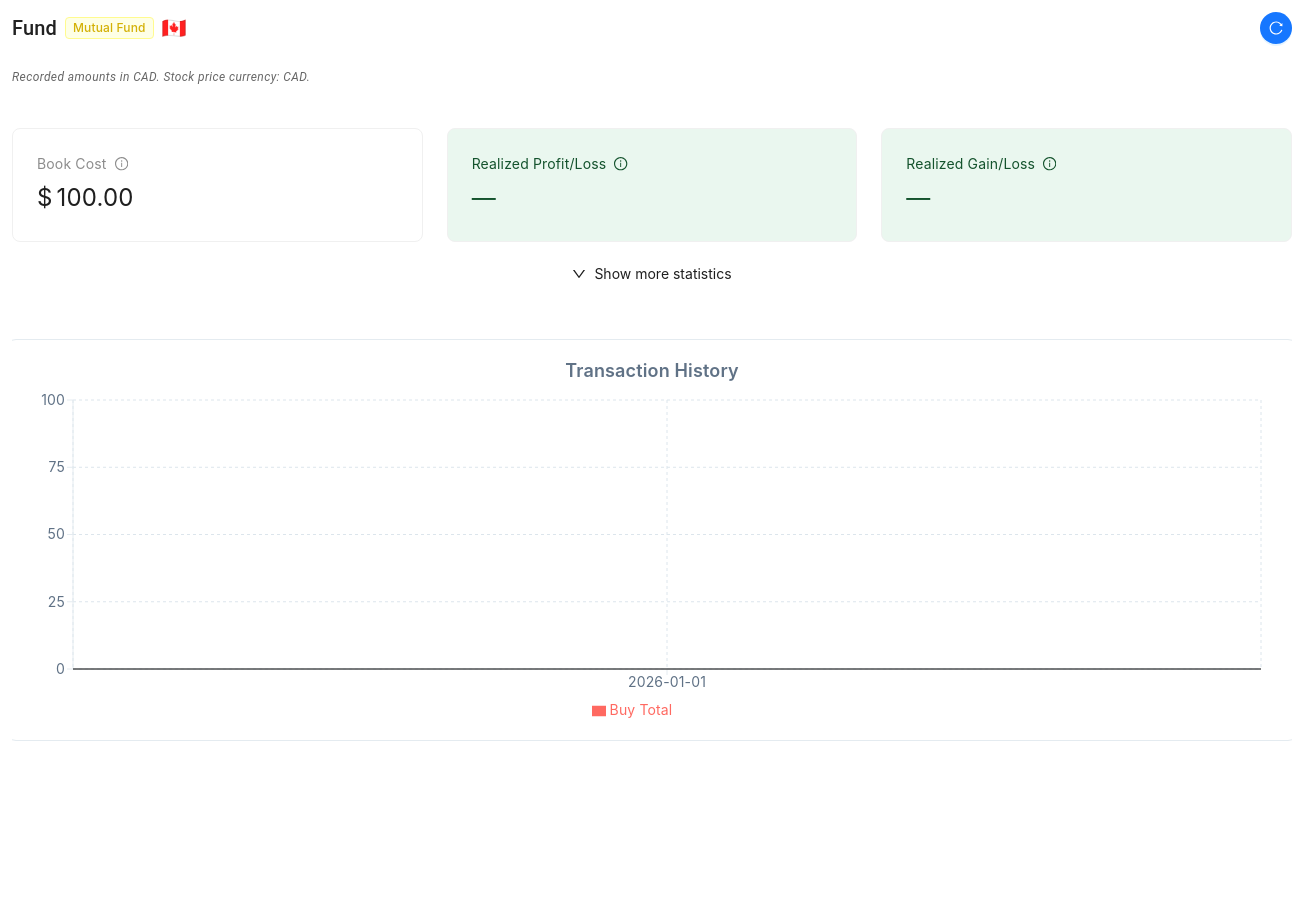
it: Mutual Fund omits irrelevant cards, dividend history and share labels
Expected: the text "Transaction History" is shown, [565, 359, 739, 380]
Expected: the element "Book Cost" shows "100.00", [12, 128, 423, 242]
Click the button "Show more statistics".
click(652, 274)  # box [556, 258, 748, 290]
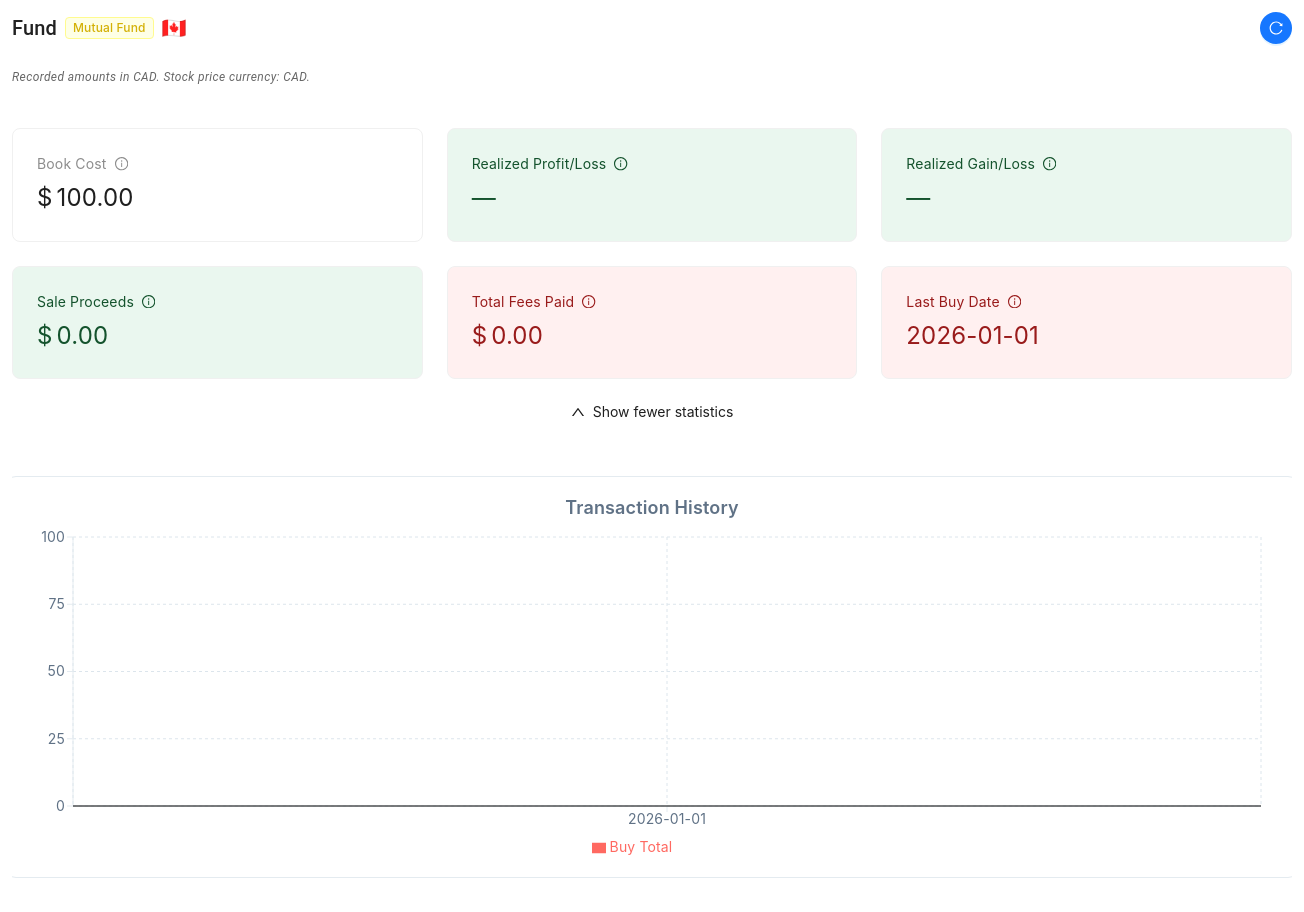
Click the button named "About Book Cost".
click(121, 164)  # box [110, 155, 132, 174]
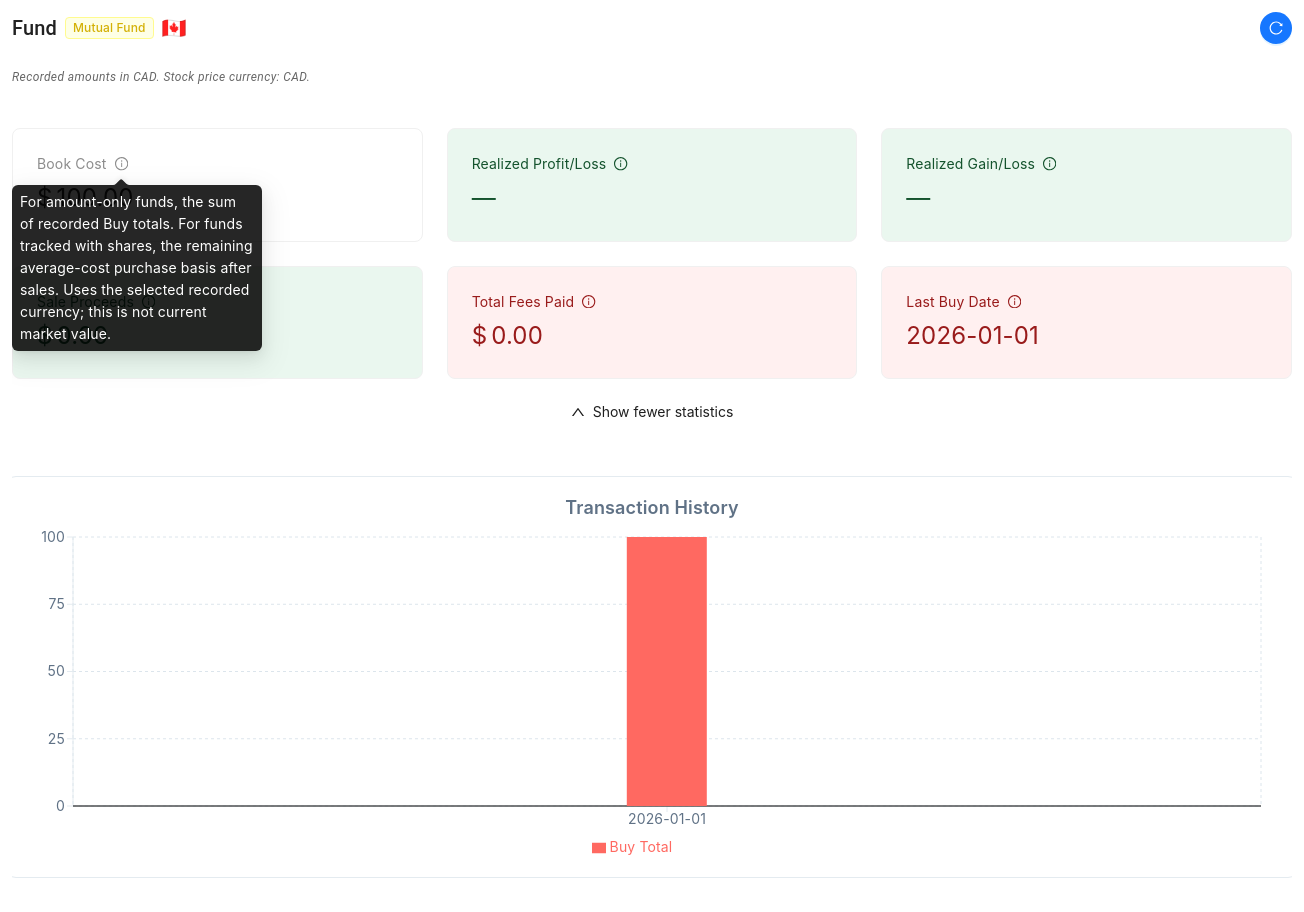
Now the tooltip shows "For amount-only funds, the sum of recorded Buy totals", box [20, 193, 253, 342]
